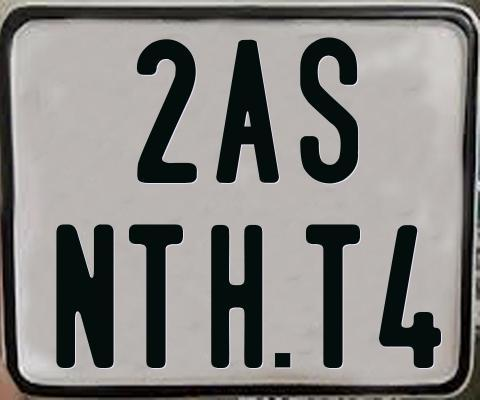2: (134, 37, 195, 181)
4: (377, 224, 441, 372)
A: (214, 38, 278, 181)
H: (208, 225, 259, 371)
N: (55, 222, 113, 367)
S: (297, 37, 360, 186)
T: (129, 223, 185, 369), (306, 221, 360, 365)
